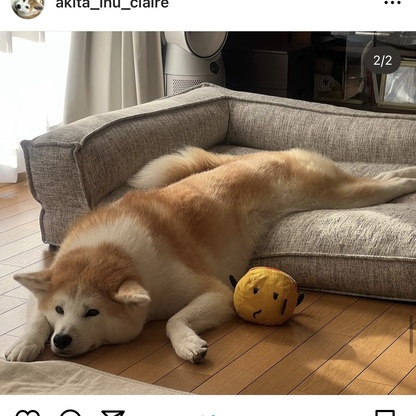akita: (3, 129, 415, 370)
